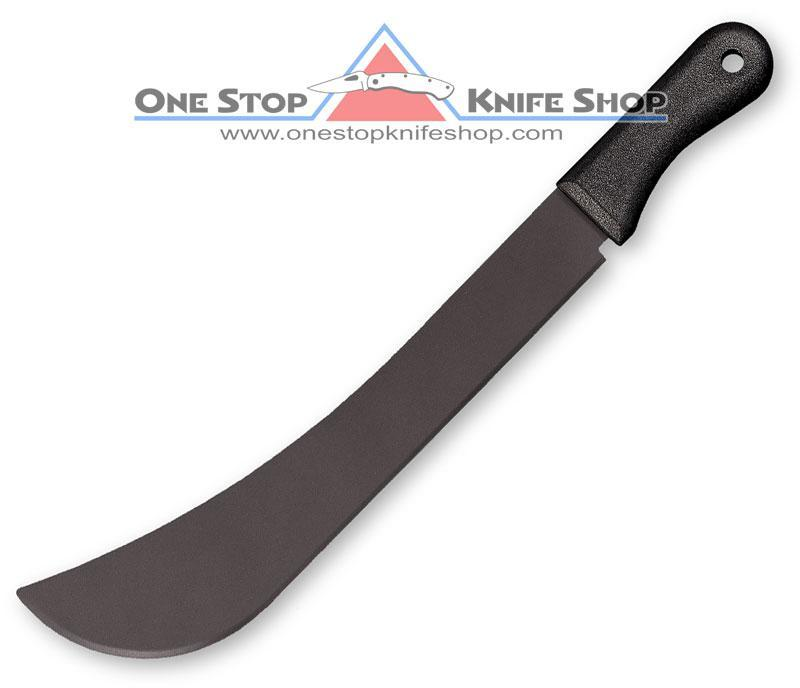facao: (17, 22, 772, 657)
